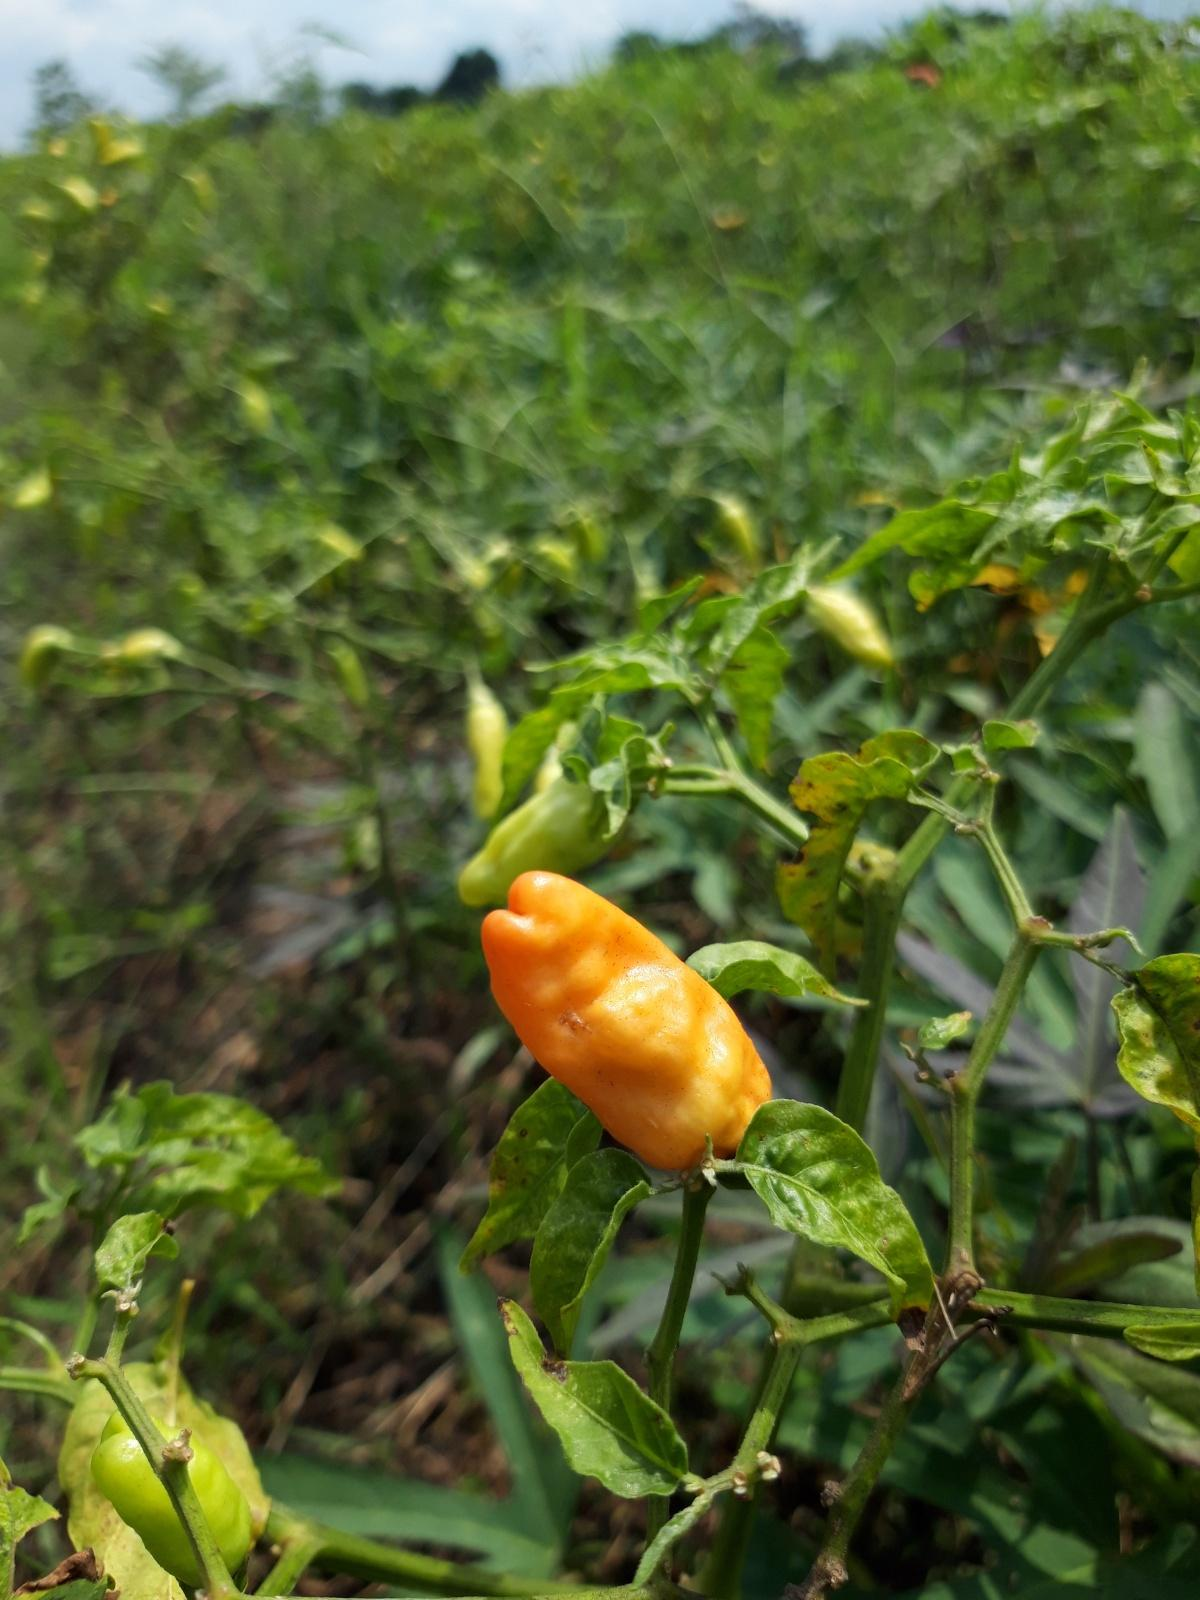cabai_normal: (480, 871, 771, 1170), (458, 774, 629, 907), (804, 587, 894, 669), (466, 693, 511, 820)
